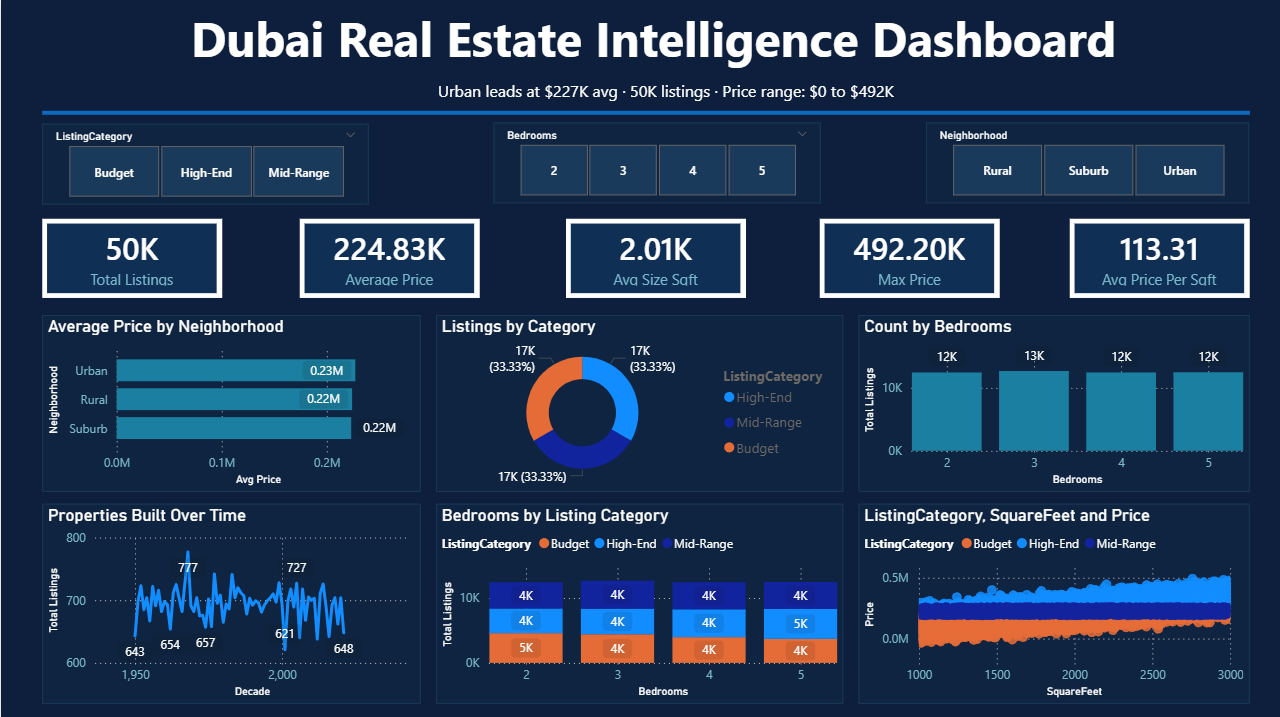

What the dashboard file says about the page in this screenshot:
{"tool":"powerbi","page":{"name":"Page 1","canvas":[1280,720],"ordinal":0},"visuals":[{"type":"cardVisual","fields":{"Data":["enriched_housing.Total Listings"]},"box":[41.2,218.2,179.8,79.6],"z":0},{"type":"cardVisual","fields":{"Data":["enriched_housing.Avg Price"]},"box":[299.1,218.2,179.8,79.6],"z":1000},{"type":"cardVisual","fields":{"Data":["enriched_housing.Avg Size Sqft"]},"box":[565.4,218.2,179.8,79.6],"z":2000},{"type":"cardVisual","fields":{"Data":["enriched_housing.Max Price"]},"box":[819.2,218.2,179.8,79.6],"z":3000},{"type":"cardVisual","fields":{"Data":["enriched_housing.Avg Price Per Sqft"]},"box":[1069,218.2,179.8,79.6],"z":4000},{"type":"clusteredBarChart","title":"Average Price by Neighborhood","fields":{"Category":["enriched_housing.Neighborhood"],"Y":["enriched_housing.Avg Price"]},"box":[41.2,315.6,378.7,177],"z":5000},{"type":"donutChart","title":"Listings by Category","fields":{"Category":["enriched_housing.ListingCategory"],"Y":["enriched_housing.Total Listings"]},"box":[435,315.6,407.5,177],"z":6000},{"type":"clusteredColumnChart","title":"Count by Bedrooms","fields":{"Category":["enriched_housing.Bedrooms"],"Y":["enriched_housing.Total Listings"]},"box":[857.6,315.6,391.1,177],"z":7000},{"type":"lineChart","title":"Properties Built Over Time","fields":{"Category":["enriched_housing.Decade"],"Y":["enriched_housing.Total Listings"]},"box":[41.2,503.6,378.7,200.3],"z":8000},{"type":"slicer","fields":{"Values":["enriched_housing.Neighborhood"]},"box":[925.3,123.1,323.3,80.8],"z":9000},{"type":"slicer","fields":{"Values":["enriched_housing.Bedrooms"]},"box":[492.2,123.1,326.9,80.8],"z":10000},{"type":"slicer","fields":{"Values":["enriched_housing.ListingCategory"]},"box":[41.2,123.5,326.6,81],"z":11000},{"type":"scatterChart","fields":{"X":["enriched_housing.SquareFeet"],"Y":["enriched_housing.Price"],"Series":["enriched_housing.ListingCategory"]},"box":[857.6,503.6,391.1,200.3],"z":12000},{"type":"textbox","box":[146.8,0,1012.7,78.2],"z":13000},{"type":"textbox","box":[419.8,74.8,489.8,37.4],"z":14000},{"type":"shape","box":[41,102.5,1207.6,20.5],"z":15000},{"type":"columnChart","title":"Bedrooms by Listing Category","fields":{"Category":["enriched_housing.Bedrooms"],"Y":["enriched_housing.Total Listings"],"Series":["enriched_housing.ListingCategory"]},"box":[435,503.6,407.5,200.3],"z":16000}]}

Visuals, with their boxes in screenshot pixels (x1, y1, x2, y2), scaled from the page's 1280x720 canvas onto the 1280x717 screenshot:
cardVisual - enriched_housing.Total Listings: pyautogui.locateOnScreen(41, 217, 221, 297)
cardVisual - enriched_housing.Avg Price: pyautogui.locateOnScreen(299, 217, 479, 297)
cardVisual - enriched_housing.Avg Size Sqft: pyautogui.locateOnScreen(565, 217, 745, 297)
cardVisual - enriched_housing.Max Price: pyautogui.locateOnScreen(819, 217, 999, 297)
cardVisual - enriched_housing.Avg Price Per Sqft: pyautogui.locateOnScreen(1069, 217, 1249, 297)
"Average Price by Neighborhood" clusteredBarChart: pyautogui.locateOnScreen(41, 314, 420, 491)
"Listings by Category" donutChart: pyautogui.locateOnScreen(435, 314, 842, 491)
"Count by Bedrooms" clusteredColumnChart: pyautogui.locateOnScreen(858, 314, 1249, 491)
"Properties Built Over Time" lineChart: pyautogui.locateOnScreen(41, 502, 420, 701)
slicer - enriched_housing.Neighborhood: pyautogui.locateOnScreen(925, 123, 1249, 203)
slicer - enriched_housing.Bedrooms: pyautogui.locateOnScreen(492, 123, 819, 203)
slicer - enriched_housing.ListingCategory: pyautogui.locateOnScreen(41, 123, 368, 204)
scatterChart - enriched_housing.SquareFeet x enriched_housing.Price: pyautogui.locateOnScreen(858, 502, 1249, 701)
textbox: pyautogui.locateOnScreen(147, 0, 1160, 78)
textbox: pyautogui.locateOnScreen(420, 74, 910, 112)
shape: pyautogui.locateOnScreen(41, 102, 1249, 122)
"Bedrooms by Listing Category" columnChart: pyautogui.locateOnScreen(435, 502, 842, 701)
